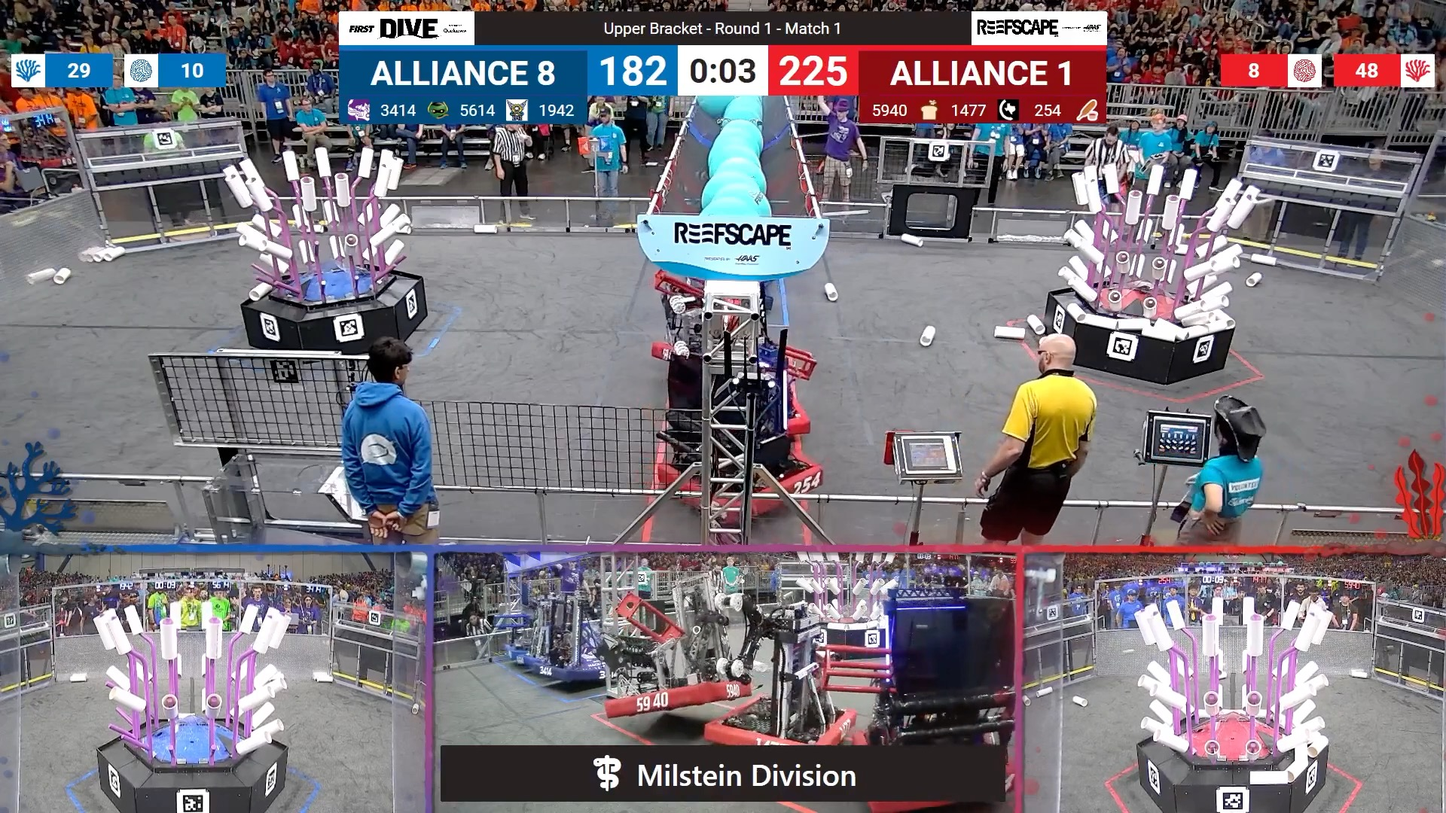bumpers: (648, 441, 825, 523), (595, 671, 759, 724), (707, 705, 865, 750), (511, 655, 619, 686), (642, 338, 683, 374)
